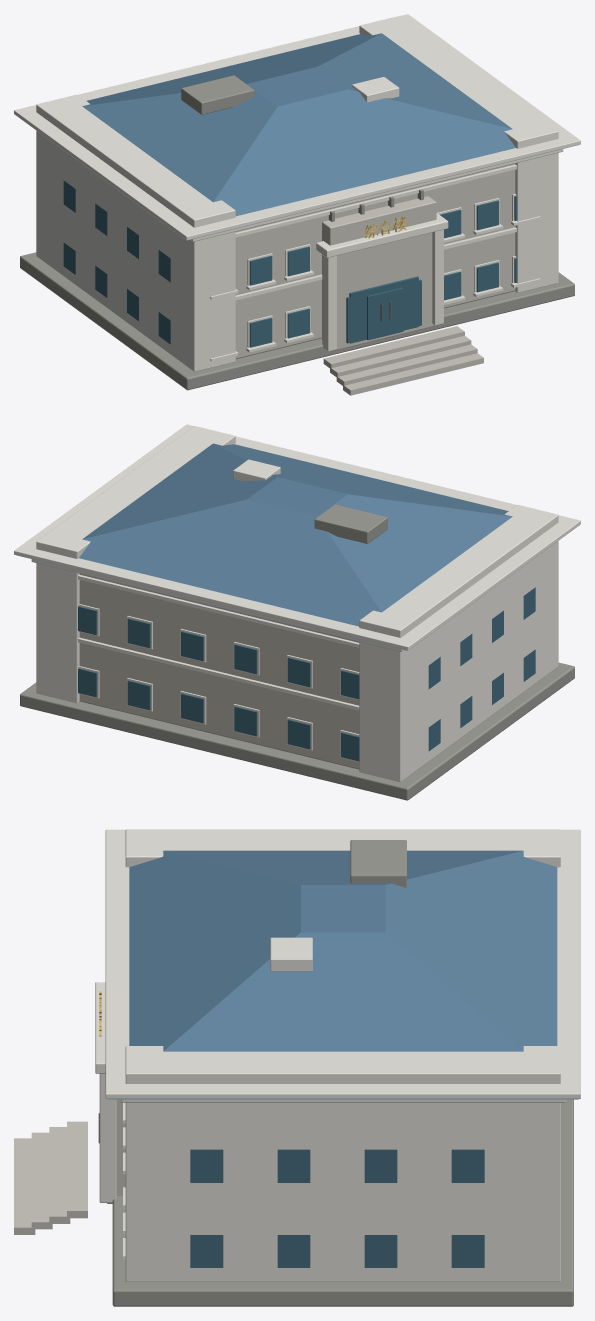
The model's file is b01-comprehensive.glb.
3 views of the same model, one above another, from view 1: azimuth 30°, elevation 25°; view 2: azimuth 150°, elevation 25°; view 3: azimuth 270°, elevation 25° (orthographic). The views are drawn at different scales.
Visible parts, largest first — view 1: roof, end-pavilion--1, body, roof-fascia, end-pavilion-1, plinth, entrance-bay, roof-unit, entry-step-0, entry-step-3, entrance-door, entrance-head (+17 smaller); view 2: roof, end-pavilion--1, body, roof-fascia, plinth, end-pavilion-1, roof-unit, floor-band-1, floor-band-2, upper-eave, roof-unit-2, rear-window-0-1 (+11 smaller); view 3: end-pavilion-1, roof, roof-fascia, plinth, end-pavilion--1, roof-unit, entry-step-0, entrance-column-1, entry-step-2, upper-eave, entry-step-1, entry-step-3 (+11 smaller).
Part boxes in pixels (left/top/right/bottom): roof: left=82, top=33, right=578, bottom=240; end-pavilion--1: left=36, top=94, right=235, bottom=371; body: left=235, top=163, right=515, bottom=359; roof-fascia: left=14, top=14, right=580, bottom=240; end-pavilion-1: left=359, top=15, right=558, bottom=292; plinth: left=20, top=252, right=574, bottom=390; entrance-bay: left=322, top=196, right=436, bottom=351; roof-unit: left=181, top=75, right=254, bottom=114; entry-step-0: left=323, top=326, right=464, bottom=368; entry-step-3: left=343, top=353, right=483, bottom=395; entrance-door: left=367, top=287, right=403, bottom=340; entrance-head: left=316, top=213, right=448, bottom=257; roof: left=18, top=443, right=512, bottom=649; end-pavilion--1: left=359, top=505, right=558, bottom=781; body: left=79, top=574, right=359, bottom=769; roof-fascia: left=14, top=424, right=580, bottom=650; plinth: left=20, top=662, right=574, bottom=800; end-pavilion-1: left=36, top=426, right=235, bottom=703; roof-unit: left=314, top=504, right=387, bottom=543; floor-band-1: left=78, top=637, right=359, bottom=710; floor-band-2: left=78, top=574, right=359, bottom=647; upper-eave: left=31, top=559, right=404, bottom=651; roof-unit-2: left=233, top=459, right=280, bottom=480; rear-window-0-1: left=287, top=719, right=310, bottom=749; end-pavilion-1: left=125, top=1046, right=560, bottom=1281; roof: left=108, top=850, right=578, bottom=1099; roof-fascia: left=105, top=829, right=580, bottom=1098; plinth: left=112, top=1099, right=573, bottom=1306; end-pavilion--1: left=125, top=829, right=560, bottom=867; roof-unit: left=350, top=840, right=406, bottom=887; entry-step-0: left=67, top=1121, right=87, bottom=1218; entrance-column-1: left=99, top=1073, right=116, bottom=1202; entry-step-2: left=31, top=1132, right=52, bottom=1229; upper-eave: left=121, top=1099, right=565, bottom=1102; entry-step-1: left=49, top=1127, right=70, bottom=1223; entry-step-3: left=14, top=1138, right=35, bottom=1234.
Size of the model in its own units: 26.6 by 13.51 by 24.1.
